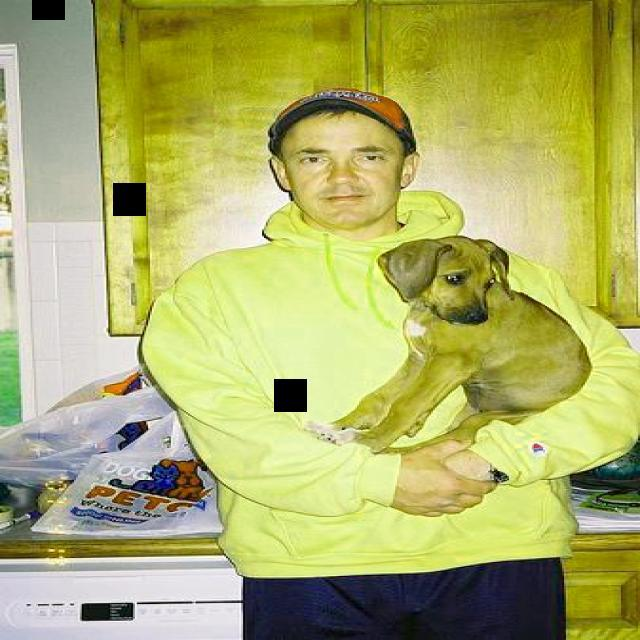non-dog: (132, 96, 639, 640)
puppy-dog: (311, 232, 597, 454)
